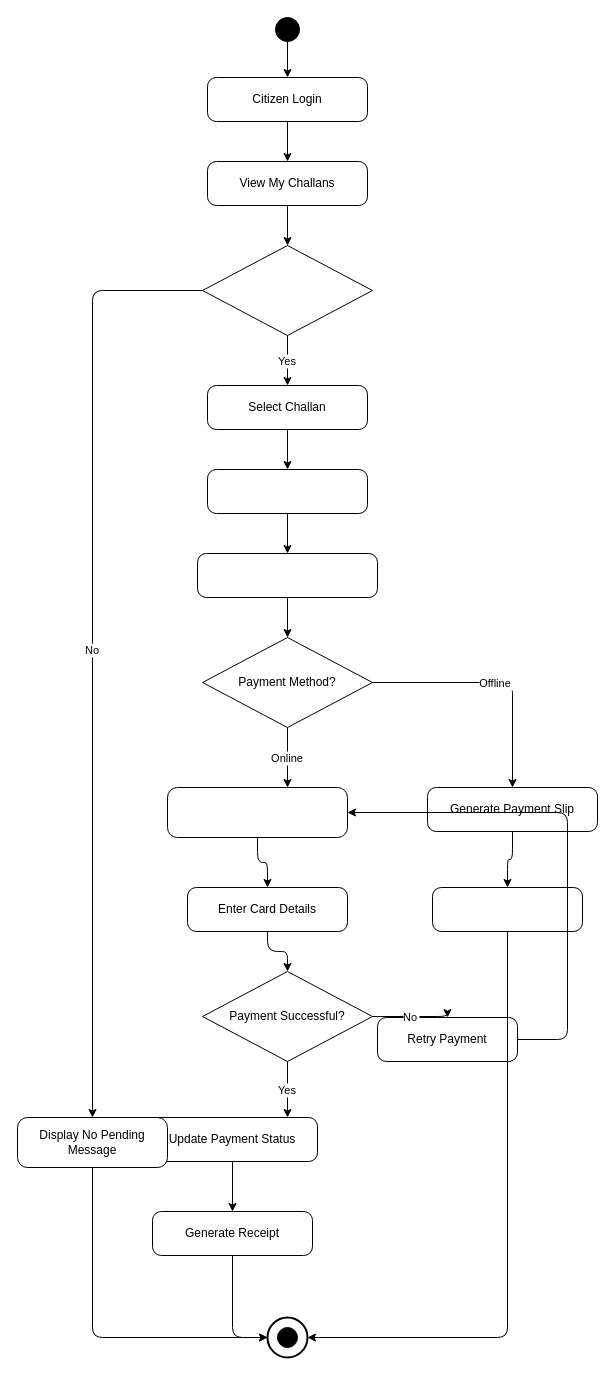
Image size: 615x1376. Some labels were removed from this diagram. Here are the shapes that lost their labels. From the top down, the centre of each, then its label:
the point at 287,290: Any Pending Challans?
the point at 287,491: View Challan Details
the point at 287,575: Choose Payment Method
the point at 257,812: Redirect to Payment Gateway
the point at 507,909: Pay at Counter
